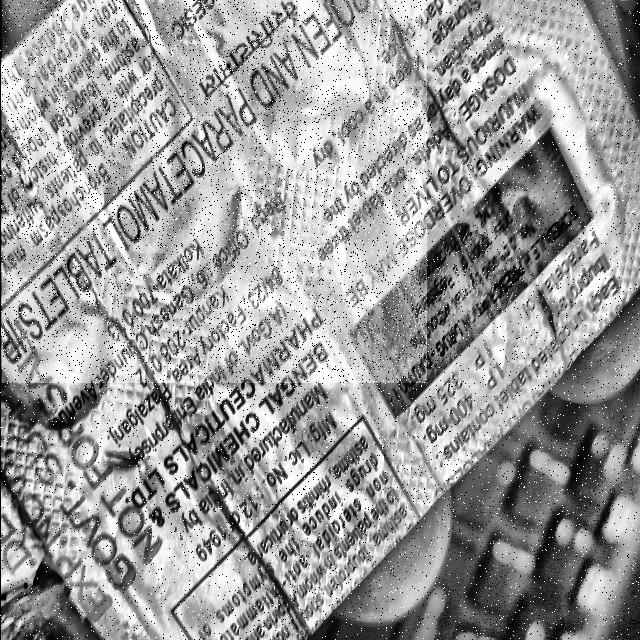IBUPROFEN AND PARACETAMOL TABLETS: (0, 0, 425, 383)
